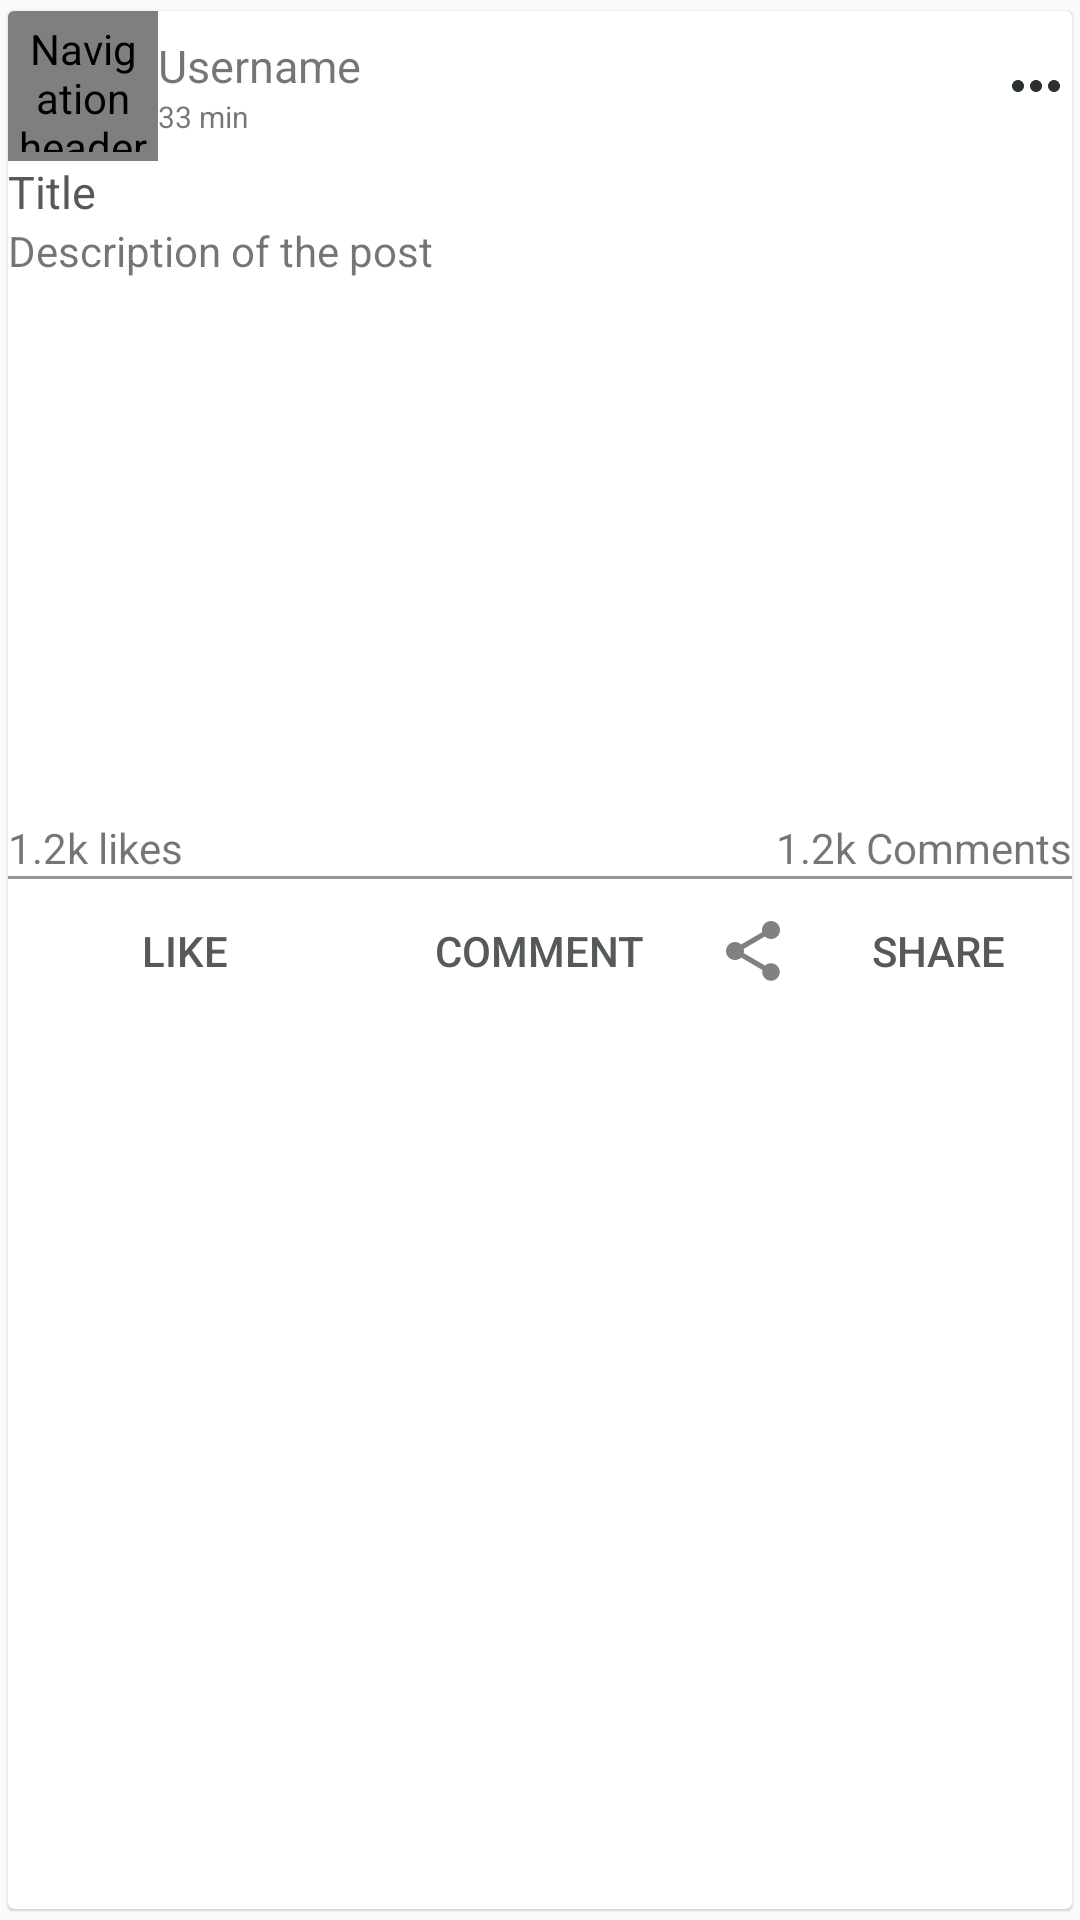

Locate icon controls on the screen. Image size 1080×1920, boxes as (x1, y1, x2, y2).
more horiz: (1012, 80, 1060, 92)
